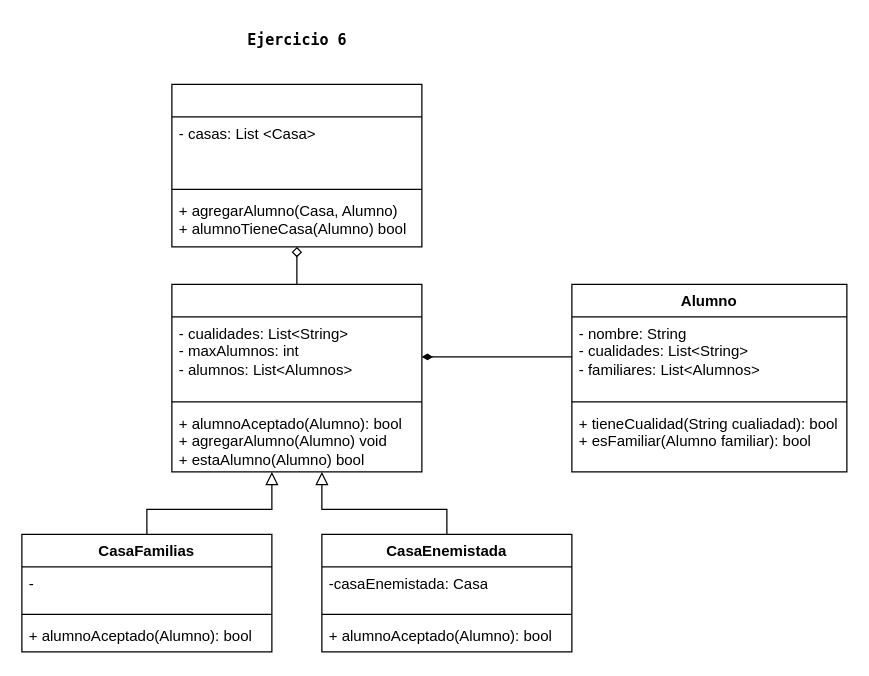
This 869x676 diagram has some shape labels left out. Here are the shapes that lost their labels. From the top down, the box of each, then its label:
(171, 83, 422, 247): Administrador
(171, 283, 422, 472): Casa
